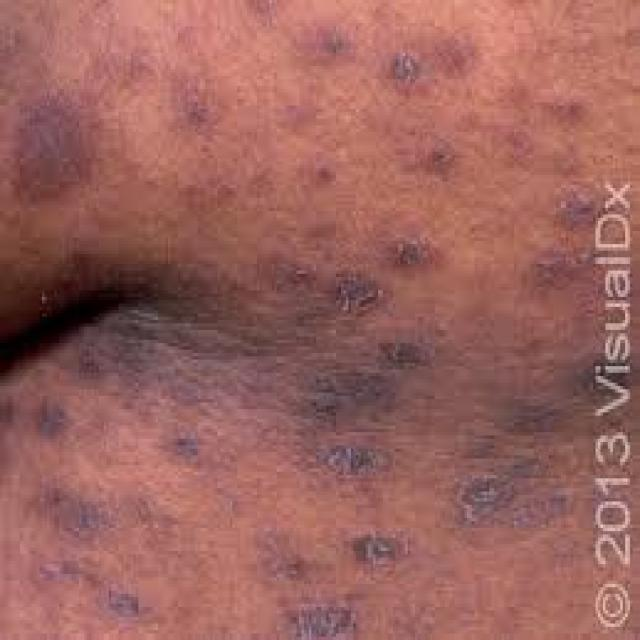Eczema: (11, 41, 640, 625)
